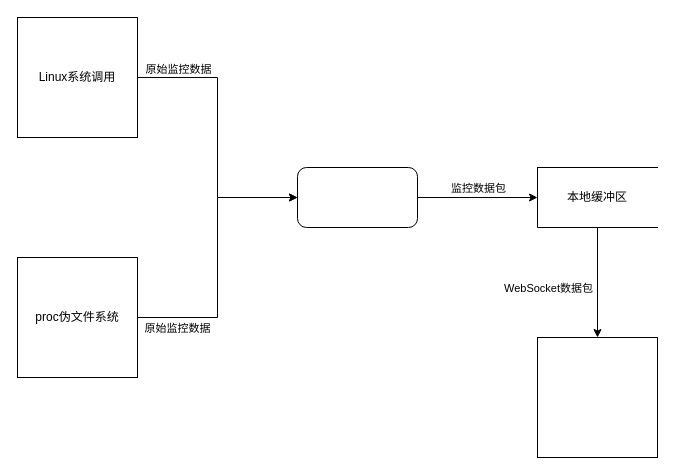
The diagram is 675 pixels wide and 475 high, and some of its shapes have lost their labels. The box of each missing label's shape, as (x1, y1, x2, y2) in pixels:
存储模块: (536, 336, 658, 458)
数据预处理及封装: (296, 166, 418, 228)
